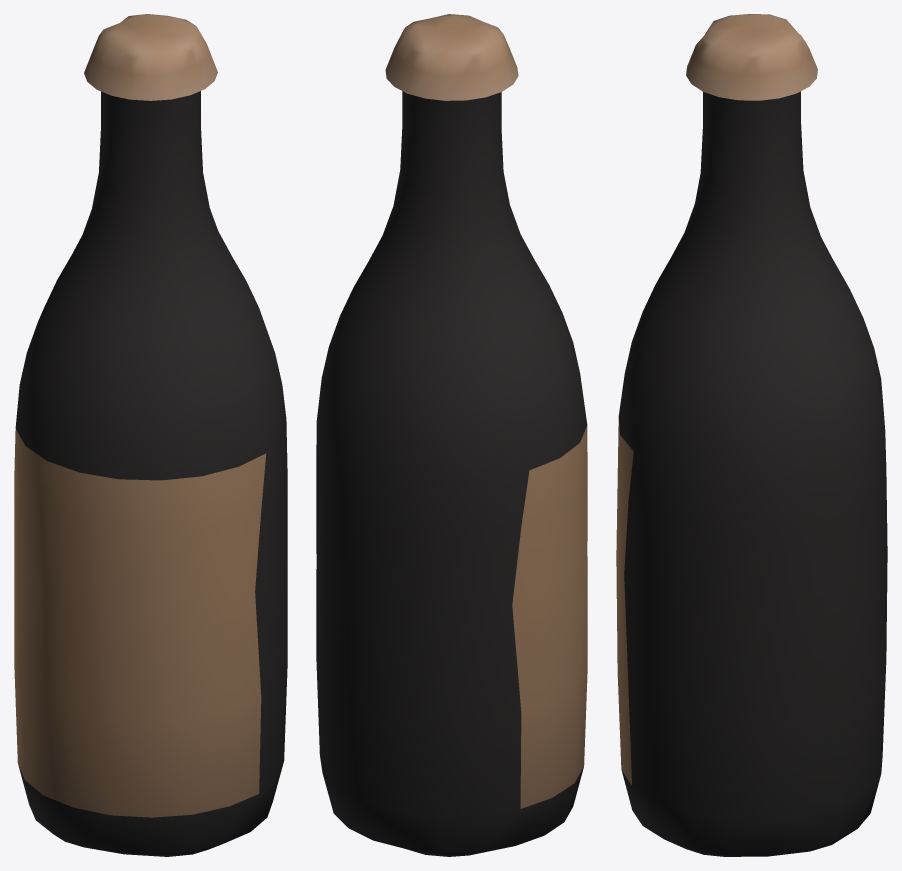
The model's file is prop_bottle_sake.glb.
The picture shows the model from 3 angles, left to right: view 1: azimuth 30°, elevation 25°; view 2: azimuth 150°, elevation 25°; view 3: azimuth 270°, elevation 25°; orthographic projection.
Visible parts, largest first — view 1: refined; view 2: refined; view 3: refined.
Part boxes in pixels (bbox=[...]): refined: bbox=[14, 14, 287, 856]; refined: bbox=[316, 14, 587, 856]; refined: bbox=[616, 14, 887, 856].
Size of the model in its own units: 0.3086 by 0.974 by 0.3038.
